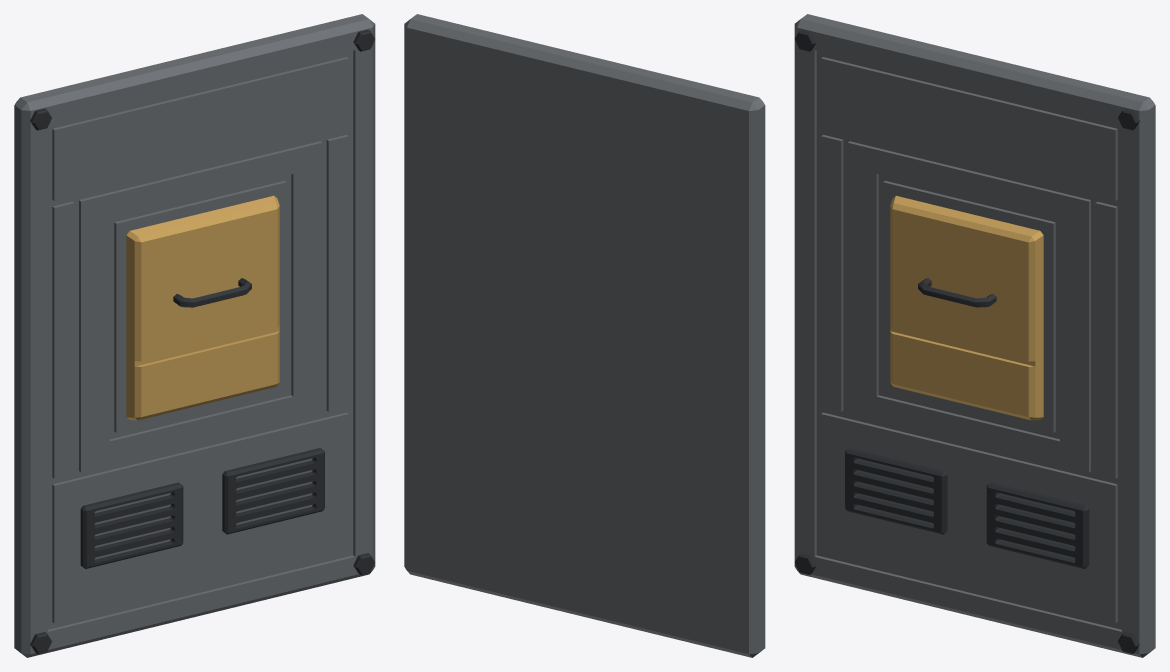
File: scifi_wall_panel.glb
3 renders of one model, left to right at view 1: azimuth 30°, elevation 25°; view 2: azimuth 150°, elevation 25°; view 3: azimuth 330°, elevation 25°, orthographic.
Visible parts, largest first — view 1: panel, hatch, vent_left, vent_right, handle; view 2: panel; view 3: panel, hatch, vent_right, vent_left, handle.
Part boxes in pixels (x1=…): panel: x1=14, y1=14, x2=375, y2=657; hatch: x1=126, y1=195, x2=279, y2=420; vent_left: x1=80, y1=482, x2=183, y2=568; vent_right: x1=222, y1=448, x2=324, y2=534; handle: x1=173, y1=278, x2=251, y2=307; panel: x1=404, y1=14, x2=765, y2=657; panel: x1=794, y1=14, x2=1155, y2=657; hatch: x1=890, y1=195, x2=1043, y2=420; vent_right: x1=986, y1=482, x2=1089, y2=568; vent_left: x1=845, y1=448, x2=947, y2=534; handle: x1=918, y1=278, x2=996, y2=307.
Size of what is drawn, in the model's own units: 1.2 by 1.8 by 0.1901.
